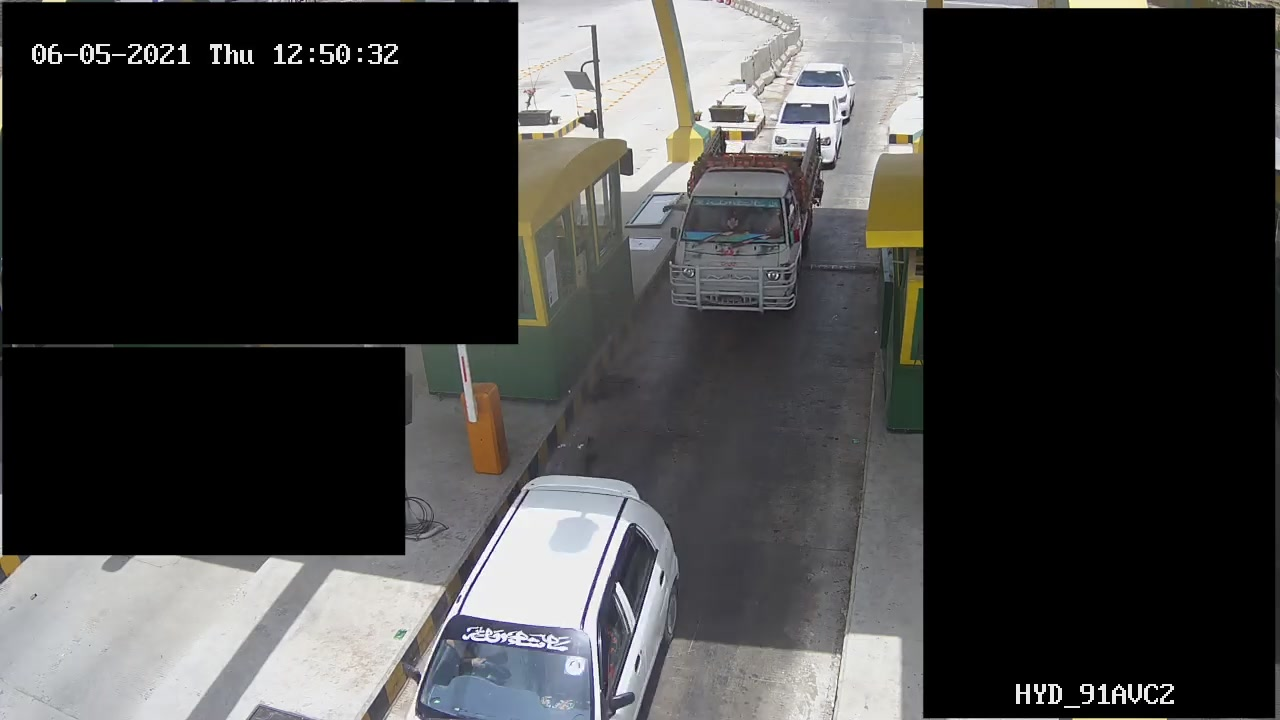F2: (671, 123, 824, 319)
